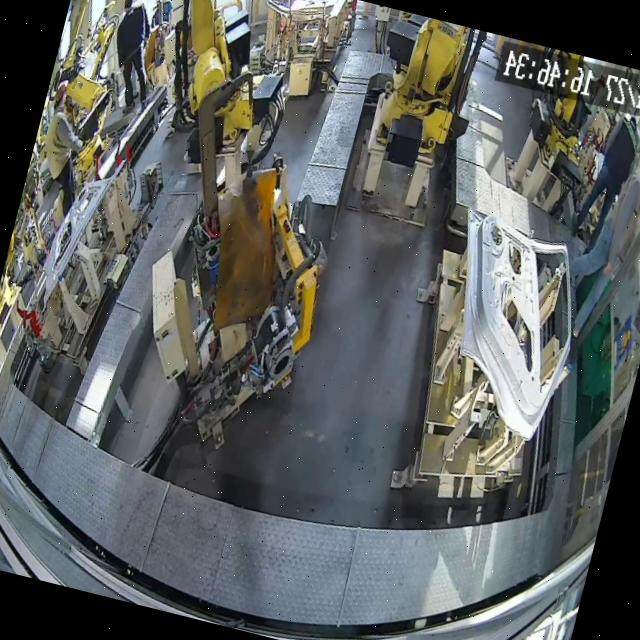Person: (569, 143, 640, 347), (565, 104, 640, 261), (97, 0, 172, 119)
